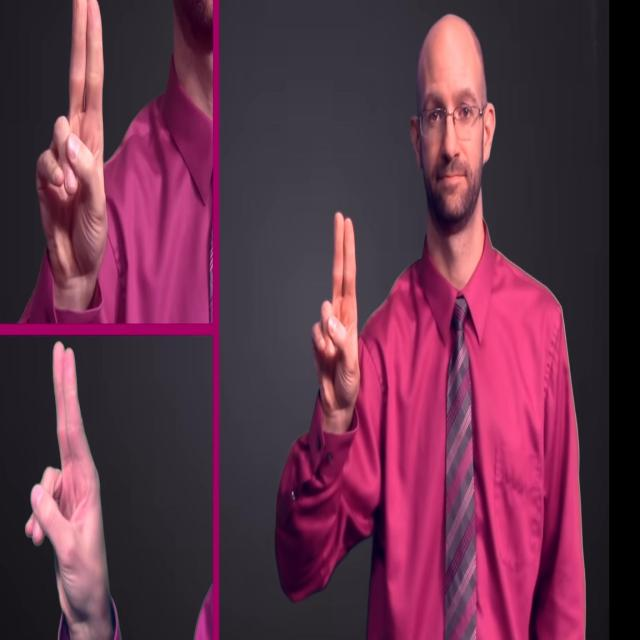U: (23, 339, 116, 630), (33, 0, 109, 285), (310, 209, 362, 417)
